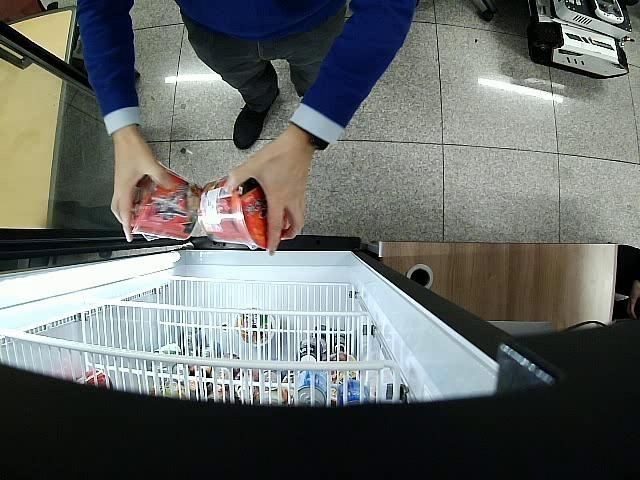01_ShinRamen_L: (199, 177, 289, 250), (130, 158, 206, 240)
